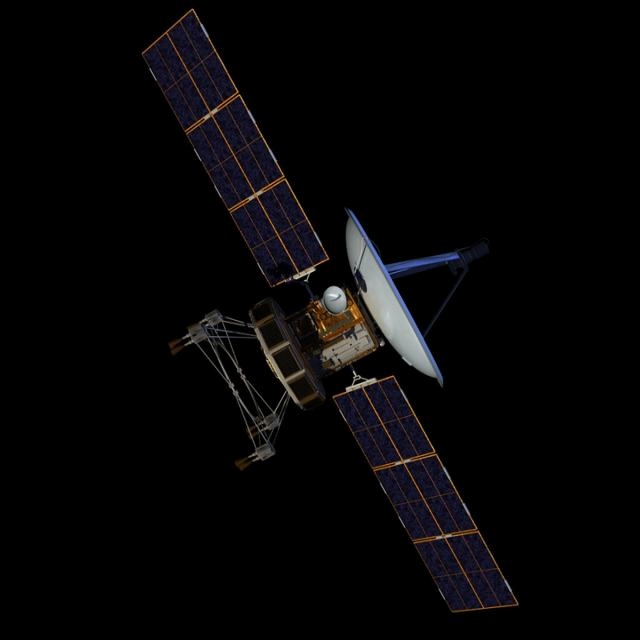medium_debris: (110, 0, 542, 640)
